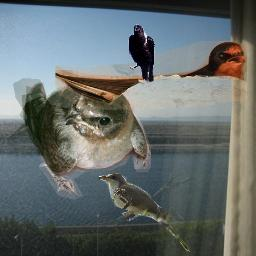Crow: (128, 24, 155, 83)
Cuckoo: (98, 173, 190, 252)
Swallow: (5, 70, 151, 201), (55, 40, 247, 110)
